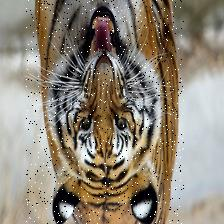tiger: (26, 0, 184, 224)
